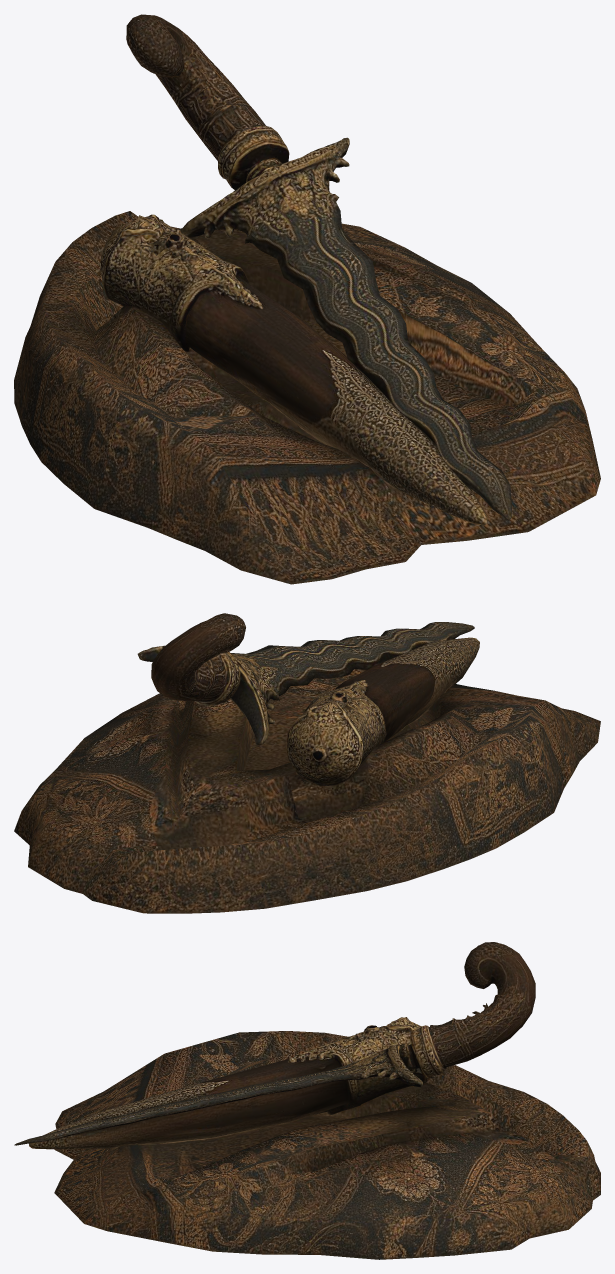
Rendered from apa-itu-dinamisme.glb.
3 views of the same model, one above another, from view 1: azimuth 30°, elevation 25°; view 2: azimuth 150°, elevation 25°; view 3: azimuth 270°, elevation 25° (orthographic). The views are drawn at different scales.
Visible parts, largest first — view 1: tripo_node_6e842614-012e-499e-bf31-8c2534f0951b; view 2: tripo_node_6e842614-012e-499e-bf31-8c2534f0951b; view 3: tripo_node_6e842614-012e-499e-bf31-8c2534f0951b.
Boxes of the visible parts, box(x1,y1,x2,y2) form: tripo_node_6e842614-012e-499e-bf31-8c2534f0951b: box(14, 14, 600, 584); tripo_node_6e842614-012e-499e-bf31-8c2534f0951b: box(14, 613, 600, 913); tripo_node_6e842614-012e-499e-bf31-8c2534f0951b: box(14, 942, 600, 1259).
Bounding box in the file's own units: 0.6973 × 0.416 × 0.998.
Materials: 1 (1 with a texture image).
